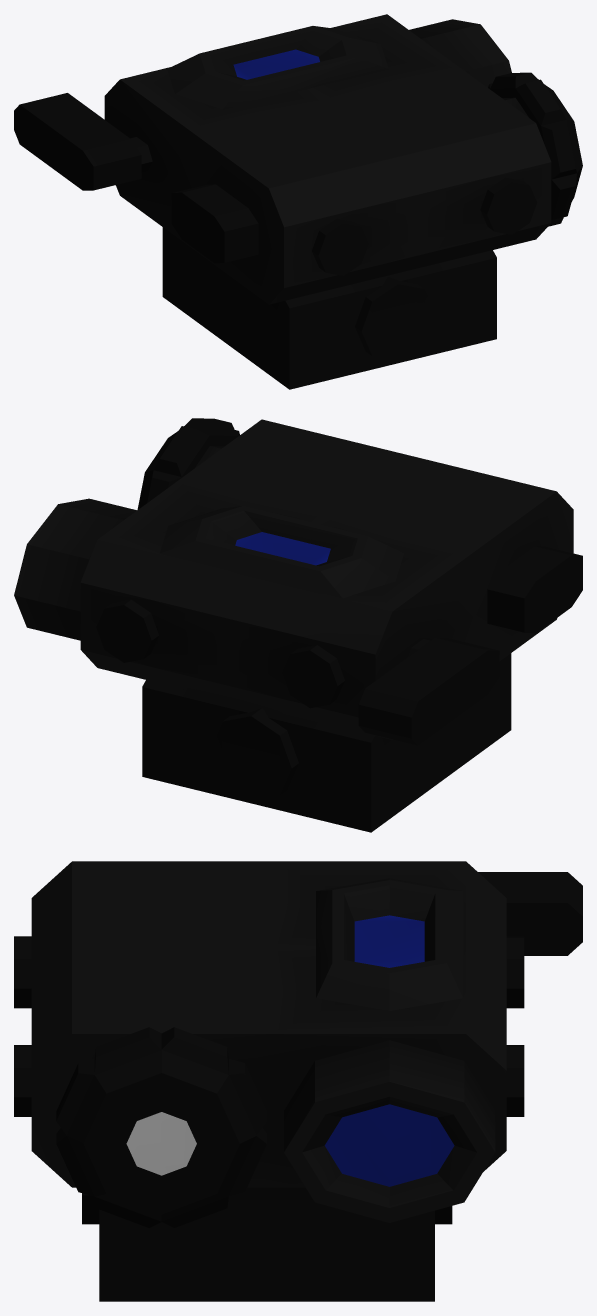
The model's file is k-att-laser-west.glb.
3 renders of one model, top to bottom at view 1: azimuth 30°, elevation 25°; view 2: azimuth 150°, elevation 25°; view 3: azimuth 270°, elevation 25°, orthographic. The views are drawn at different scales.
Visible parts, largest first — view 1: kit (×4); view 2: kit (×4); view 3: kit (×5).
Part boxes in pixels (bbox=[...]): kit (×4): bbox=[14, 14, 582, 389]; kit (×4): bbox=[14, 418, 582, 832]; kit (×5): bbox=[14, 861, 582, 1301].
Bounding box in the file's own units: 0.0891 × 0.0499 × 0.0844.
